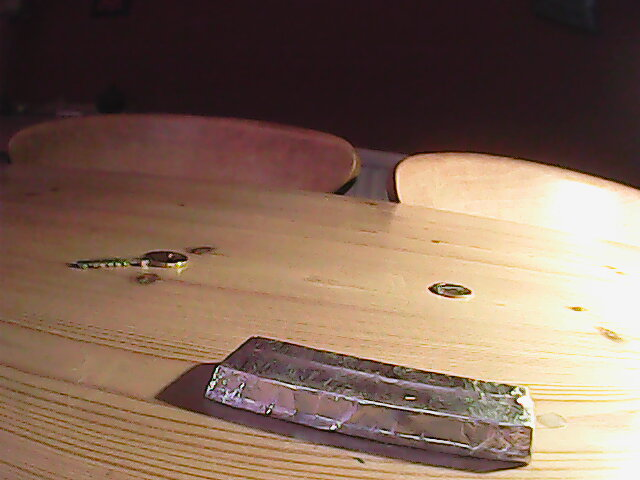Coin: (428, 282, 473, 301)
Foil: (201, 333, 534, 465)
Key: (72, 249, 191, 272)
